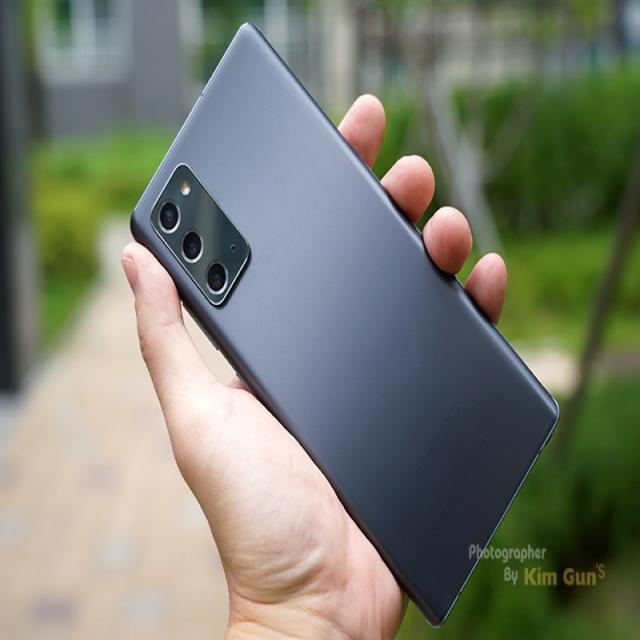lens: (150, 170, 252, 302)
phone: (126, 23, 568, 631)
